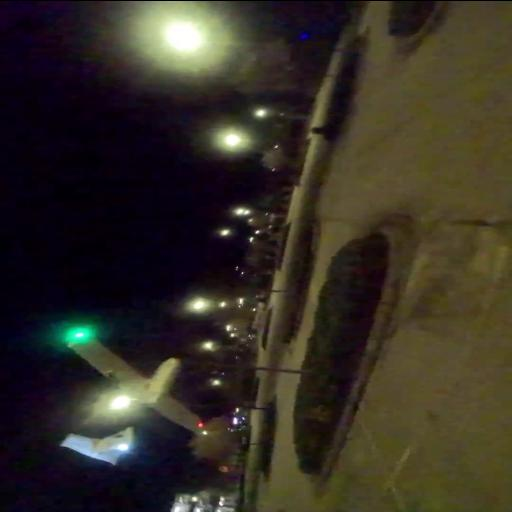uav: (50, 321, 214, 471)
